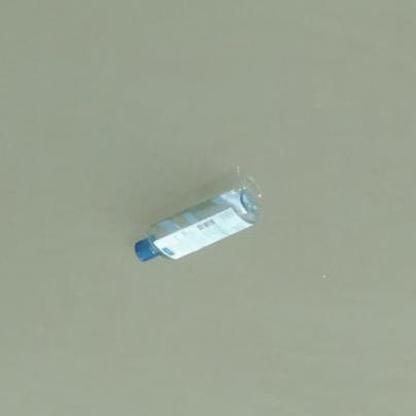plastic bottle: (133, 185, 258, 266)
